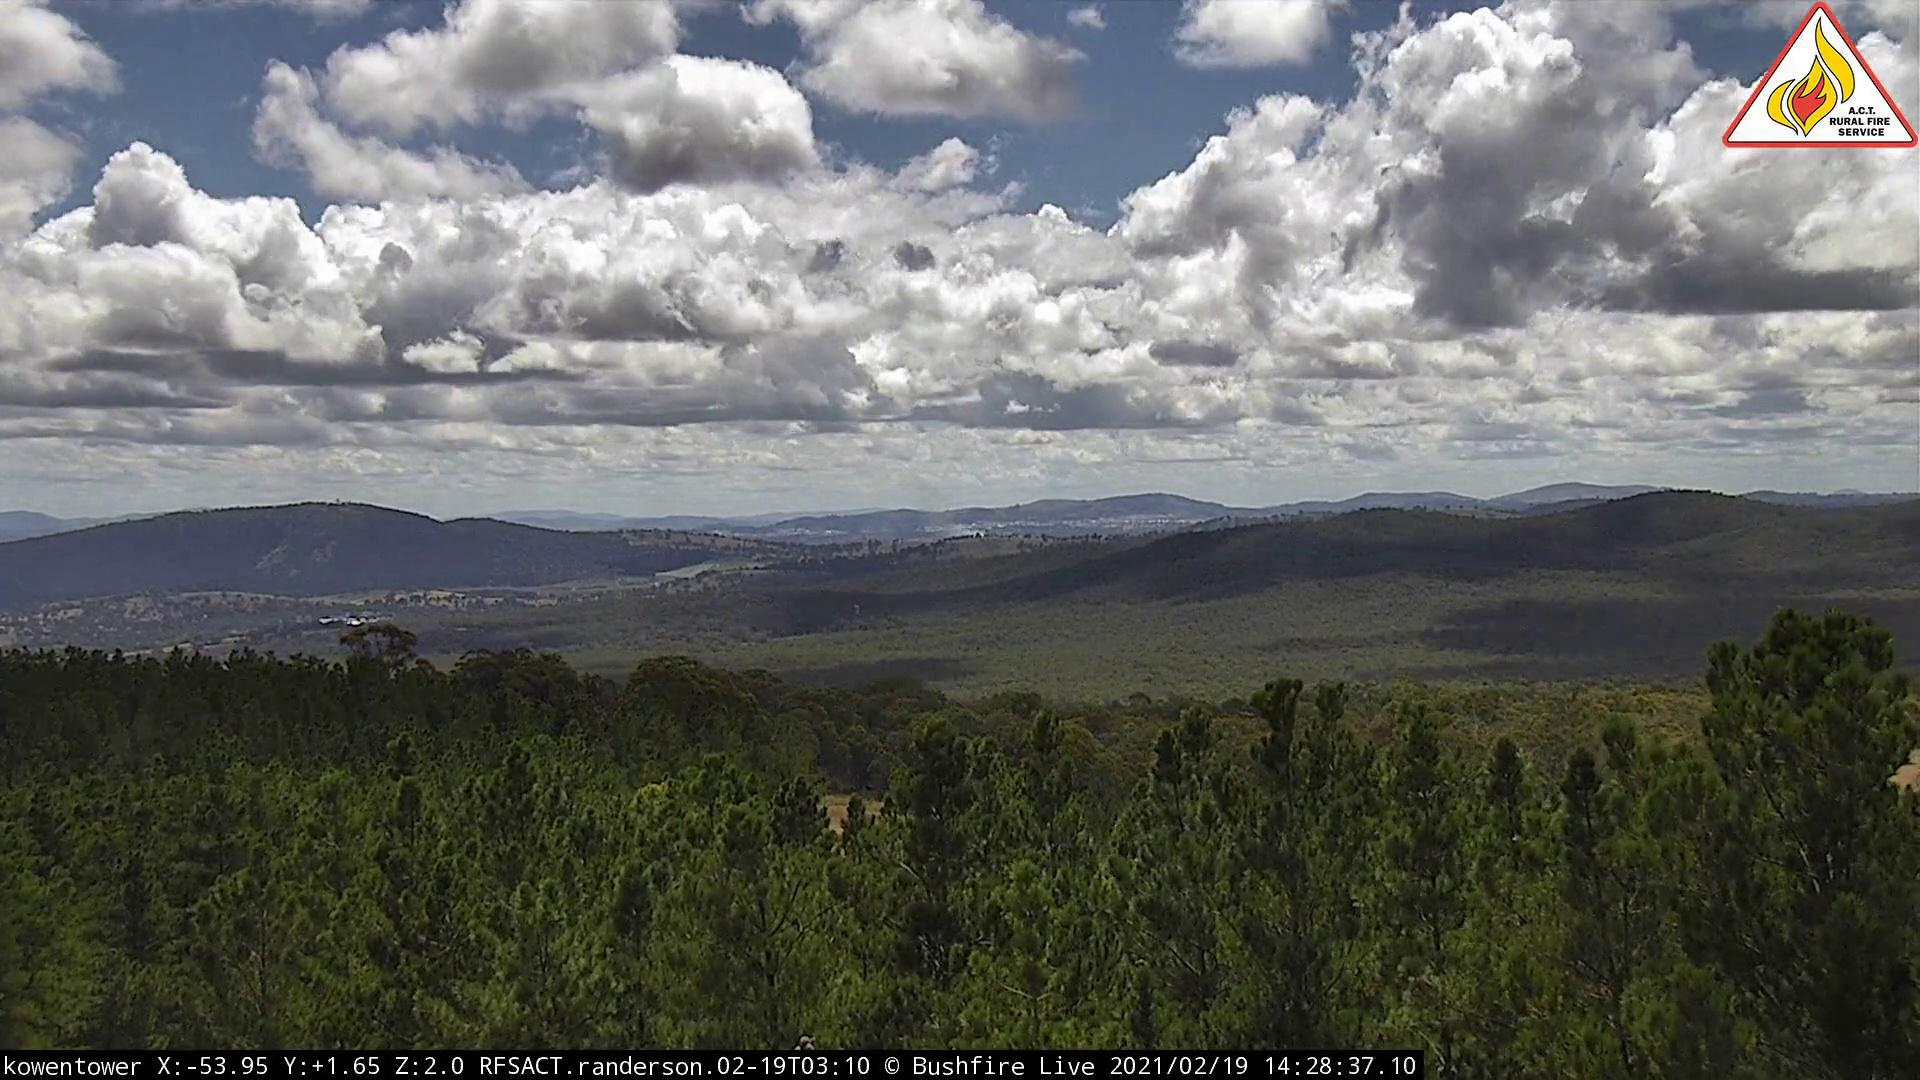Smoke: (936, 509, 994, 549)
